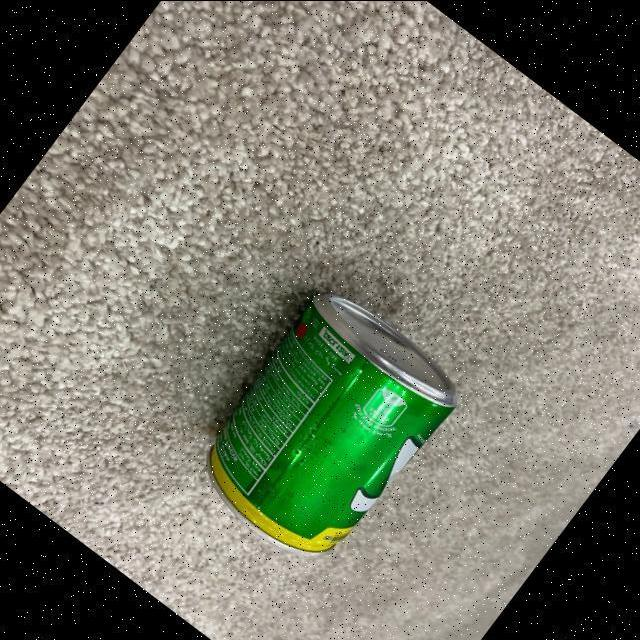can: (168, 266, 478, 588)
